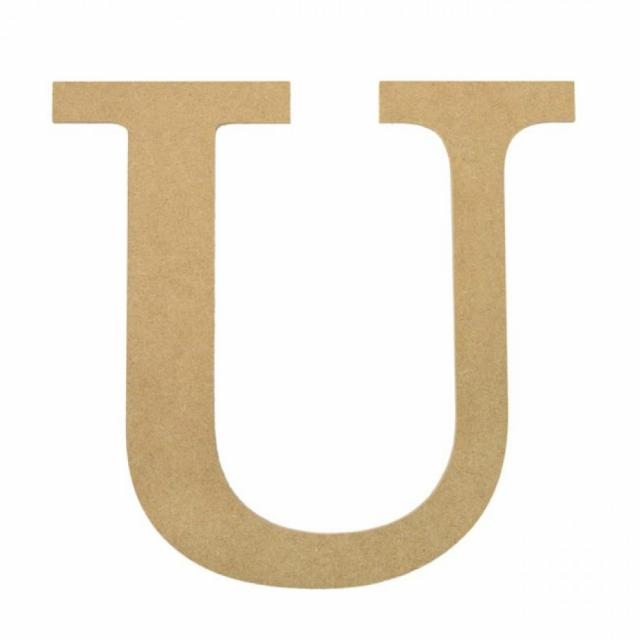U: (24, 42, 602, 598)
